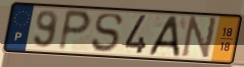4: (122, 14, 148, 56)
9: (33, 9, 60, 50)
A: (146, 15, 182, 58)
N: (179, 15, 219, 62)
P: (56, 8, 94, 53)
S: (90, 12, 125, 54)
